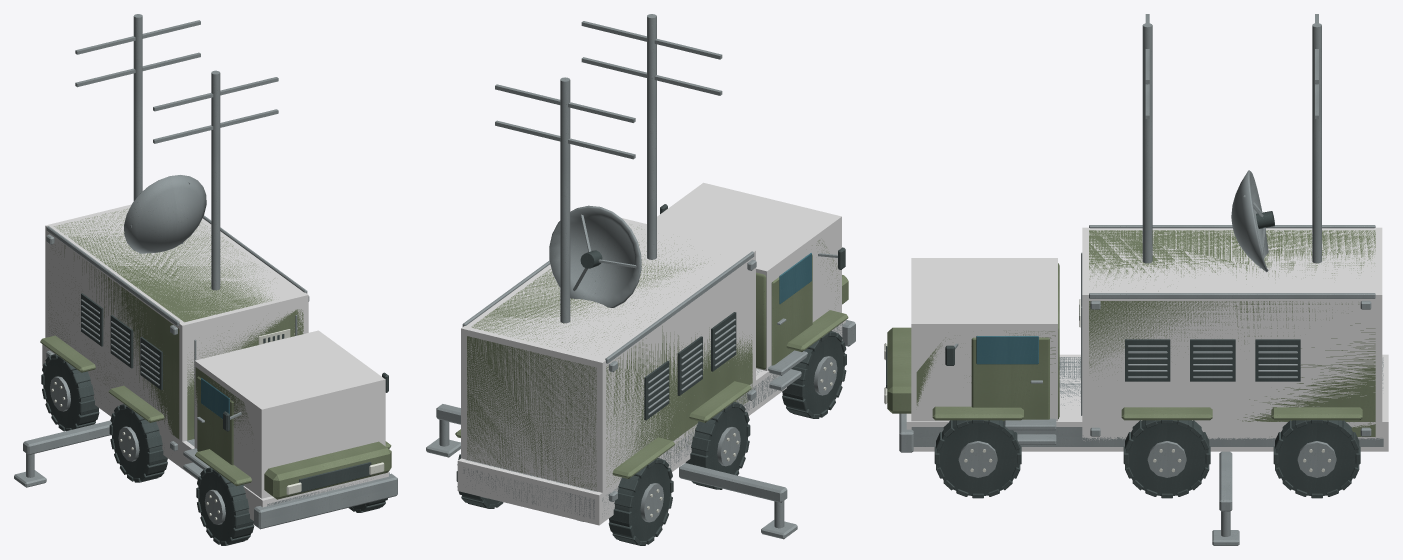
File: MobileJammer.fbx
3 renders of one model, left to right at view 1: azimuth 30°, elevation 25°; view 2: azimuth 150°, elevation 25°; view 3: azimuth 270°, elevation 25°, orthographic. The views are drawn at different scales.
Parts seen in each view (by area): view 1: LOD0, COL_Static; view 2: LOD0, COL_Static; view 3: LOD0, COL_Static.
Part boxes in pixels (box(x1,y1,x2,y2)): LOD0: box(14, 14, 397, 545); COL_Static: box(42, 204, 388, 520); LOD0: box(426, 14, 855, 545); COL_Static: box(457, 182, 845, 525); LOD0: box(884, 14, 1383, 545); COL_Static: box(906, 227, 1388, 451).
Size of what is drawn, in the model's own units: 622 by 738 by 774.
